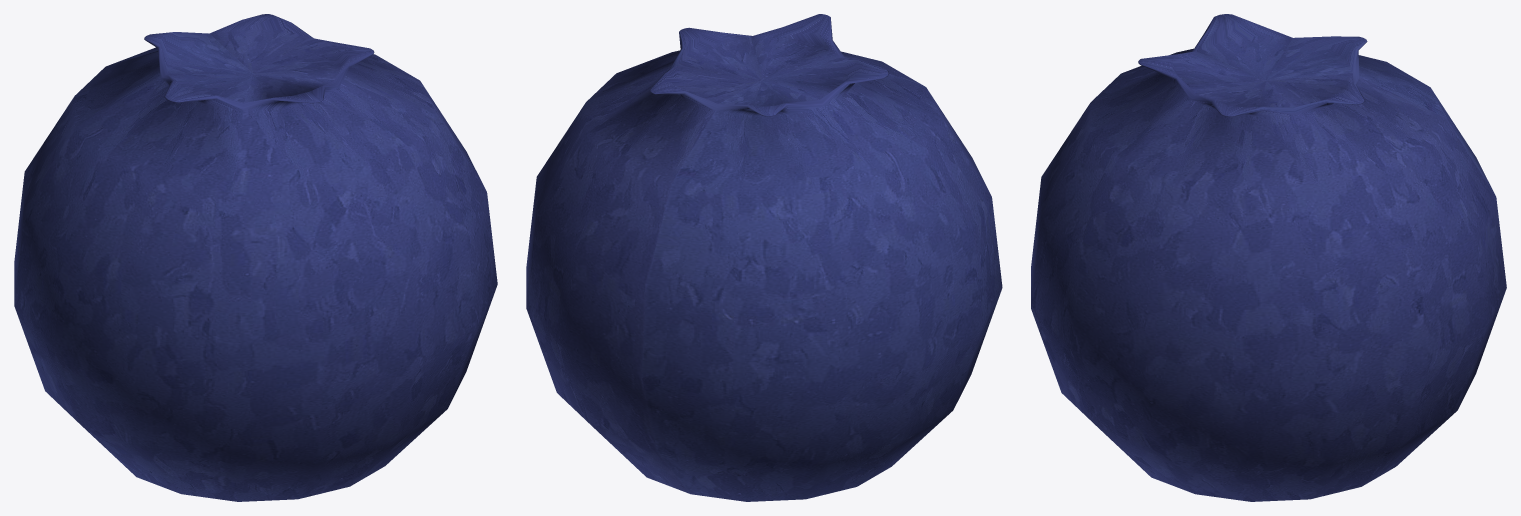
File: blueberry.obj
3 views of the same model, side by side, from view 1: azimuth 30°, elevation 25°; view 2: azimuth 150°, elevation 25°; view 3: azimuth 270°, elevation 25° (orthographic).
Parts seen in each view (by area): view 1: Blueberry; view 2: Blueberry; view 3: Blueberry.
Boxes of the visible parts, <box> form: Blueberry: <box>14,14,497,501</box>; Blueberry: <box>526,14,1002,501</box>; Blueberry: <box>1031,14,1506,501</box>.
Size of the model in its own units: 3.67 by 3.57 by 3.65.
